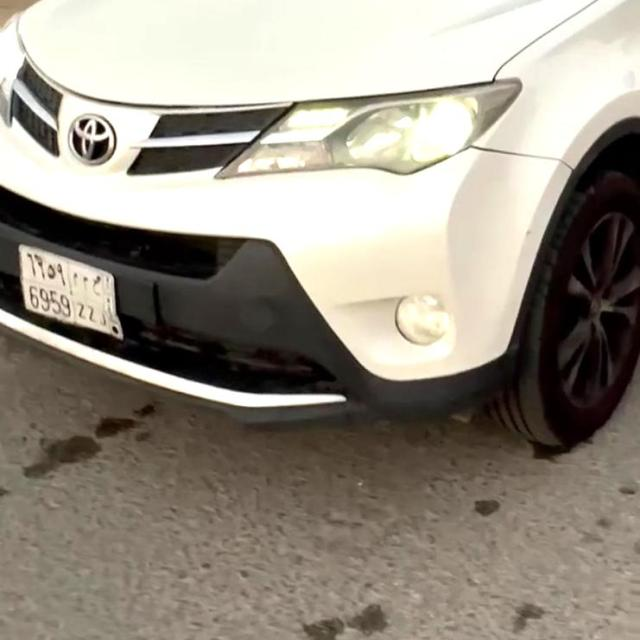Car-plate: (14, 234, 140, 371)
